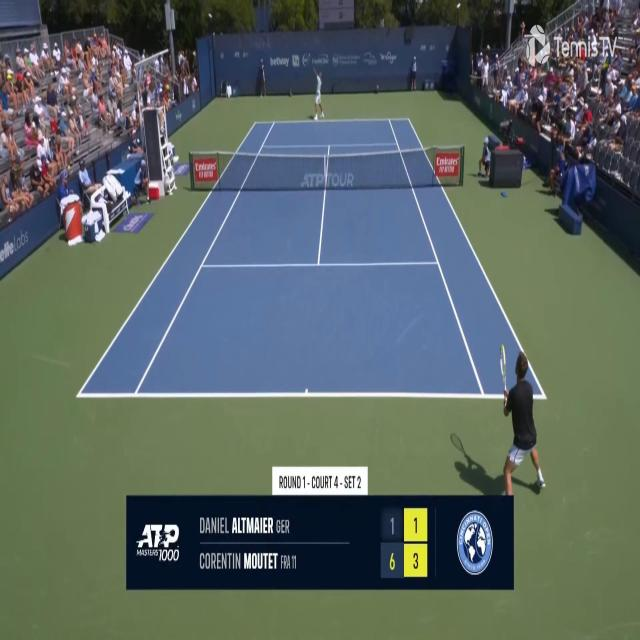tennis-player: (495, 336, 549, 502), (311, 67, 326, 123)
